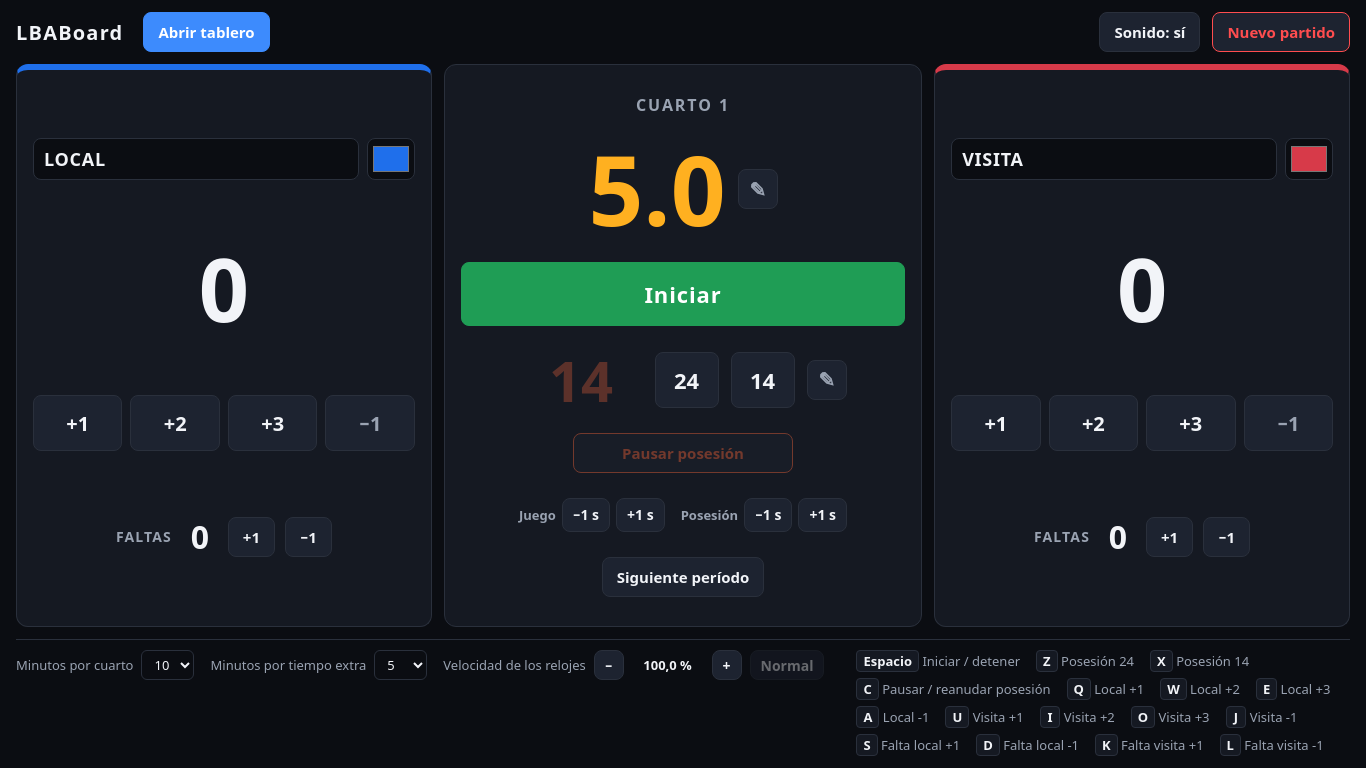
Control › sounds the buzzer when the game clock runs out with the shot clock off
Click the button "Iniciar" at [683, 294], box top-left (461, 262), bottom-right (905, 326)
Wait 6000 ms
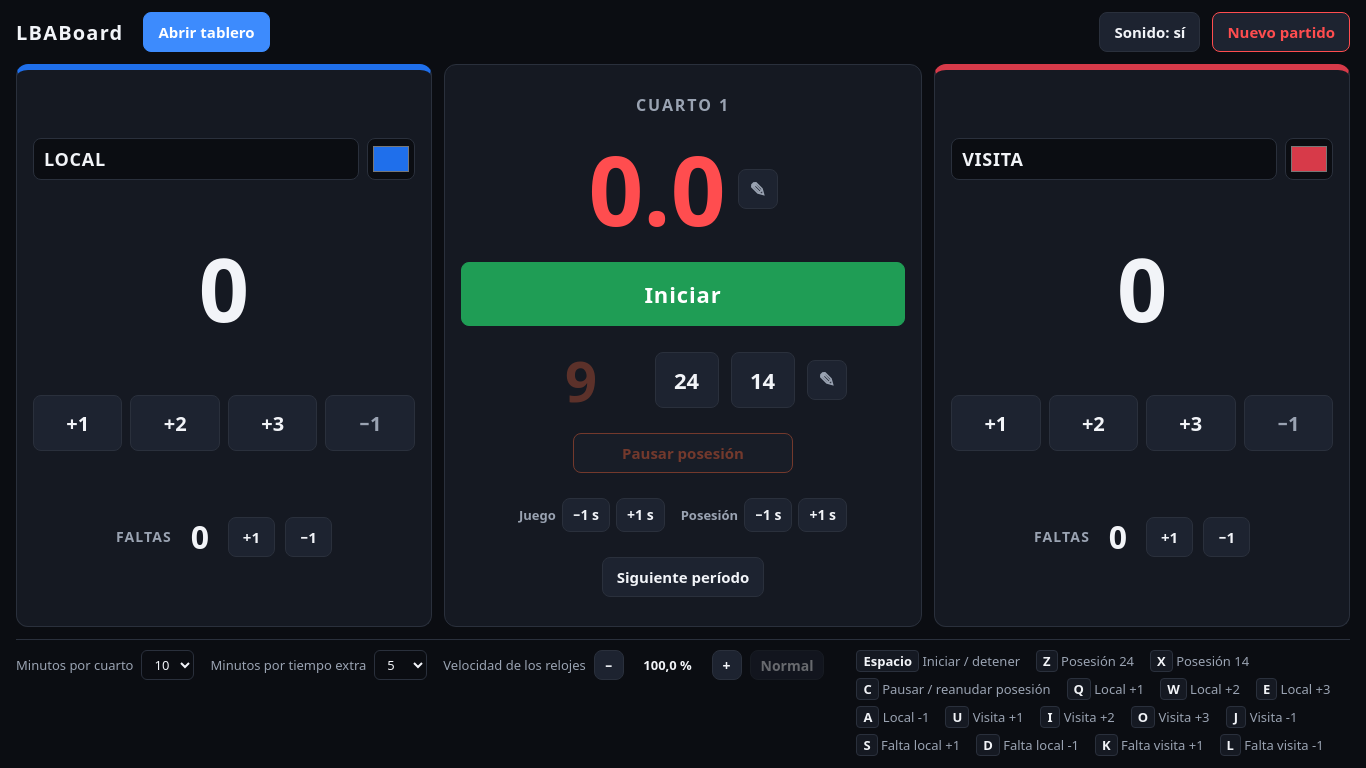
Result: the text "0.0" is shown at top-left (588, 141), bottom-right (726, 237)
